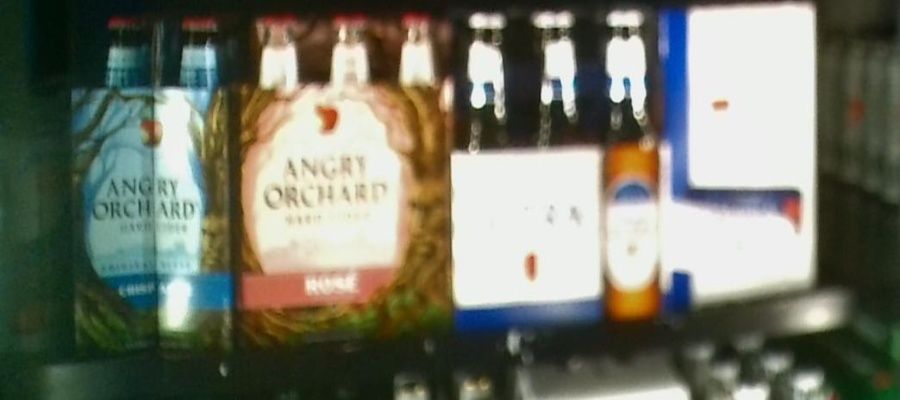bottle: (234, 3, 453, 345), (453, 6, 659, 318), (71, 8, 234, 358), (661, 5, 812, 300)
